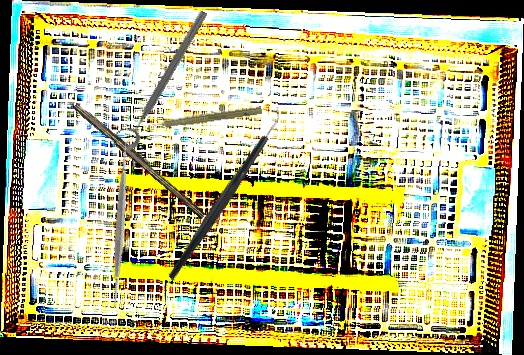Chopper: (122, 102, 325, 282)
Fixation Ring: (110, 3, 213, 153)
Handpiece: (143, 101, 263, 133)
Scalpel Handle: (71, 100, 209, 220)
Spatula Surgical: (34, 137, 207, 312)
